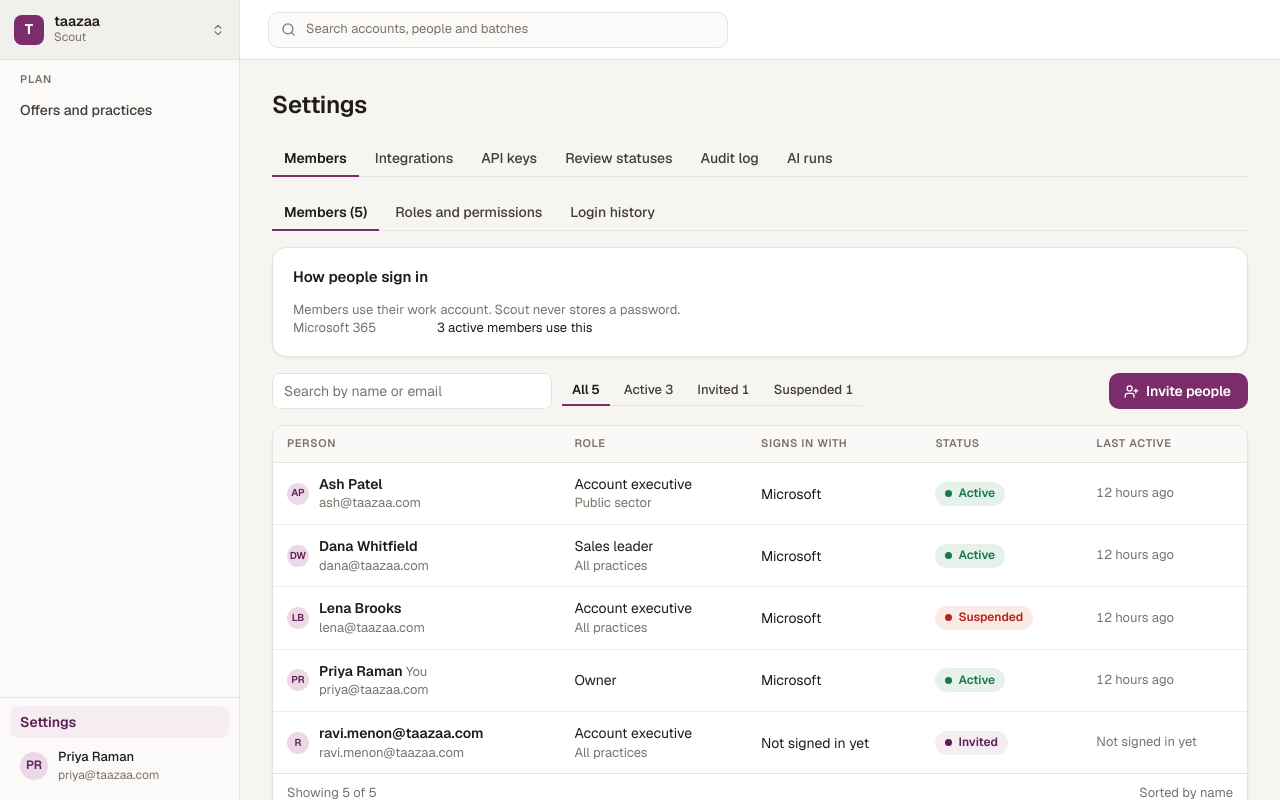
Scenario: member drawer › shows the API words when the role change fails
Click the button "Dana Whitfield" at (368, 546), box [319,536,418,557]
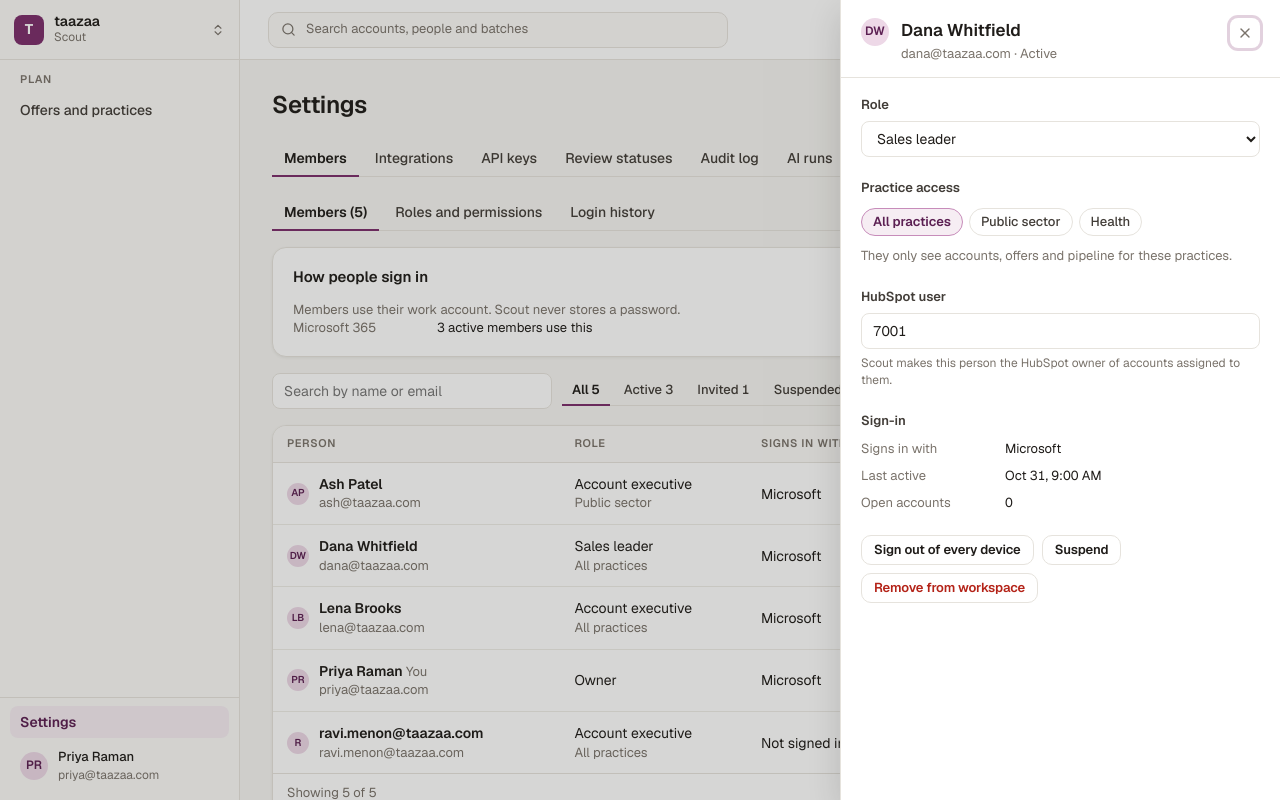
Select "Operator" in the dropdown labelled "Role" at (1060, 139), box [861,121,1260,157]
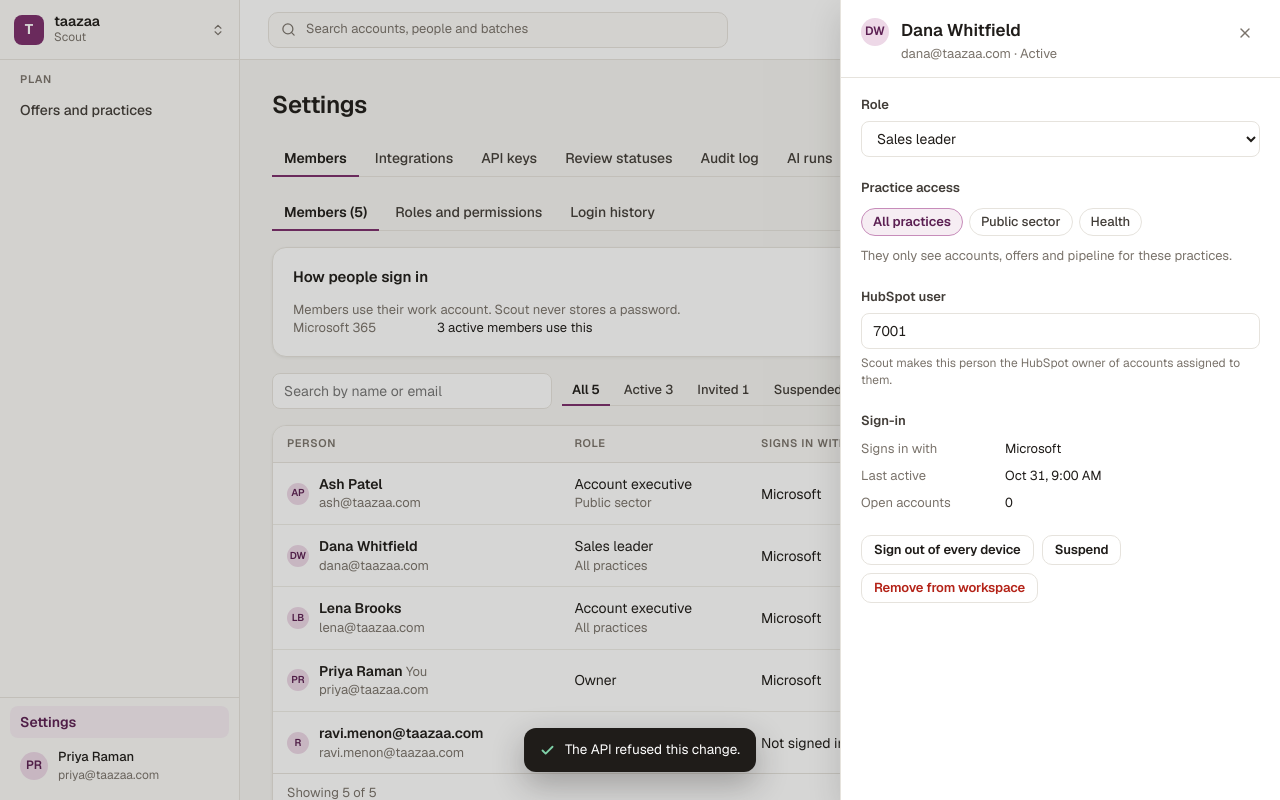
Result: the text "The API refused this change." is shown at [565,740,740,760]
